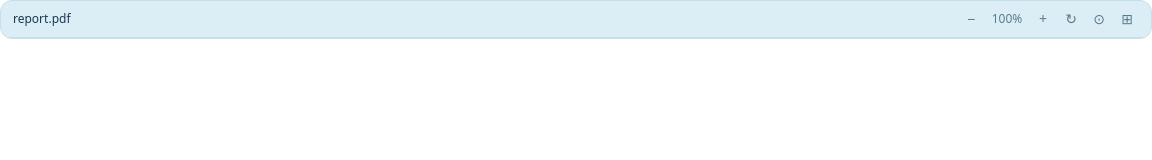
Test: DocumentPreviewPanel › increments zoom on zoom-in click
Click the button named "zoom in".
click(1043, 19)  # box [1031,7,1055,31]
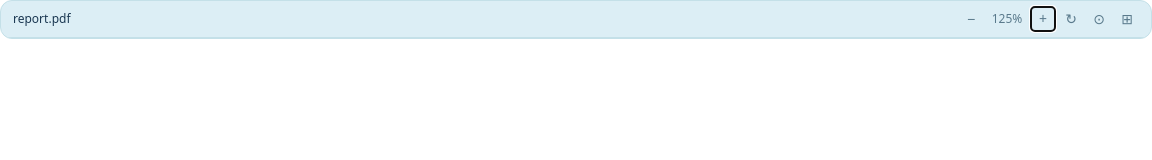
Result: the text with test id "zoom-label" reads "125%" at [992,10,1022,27]
